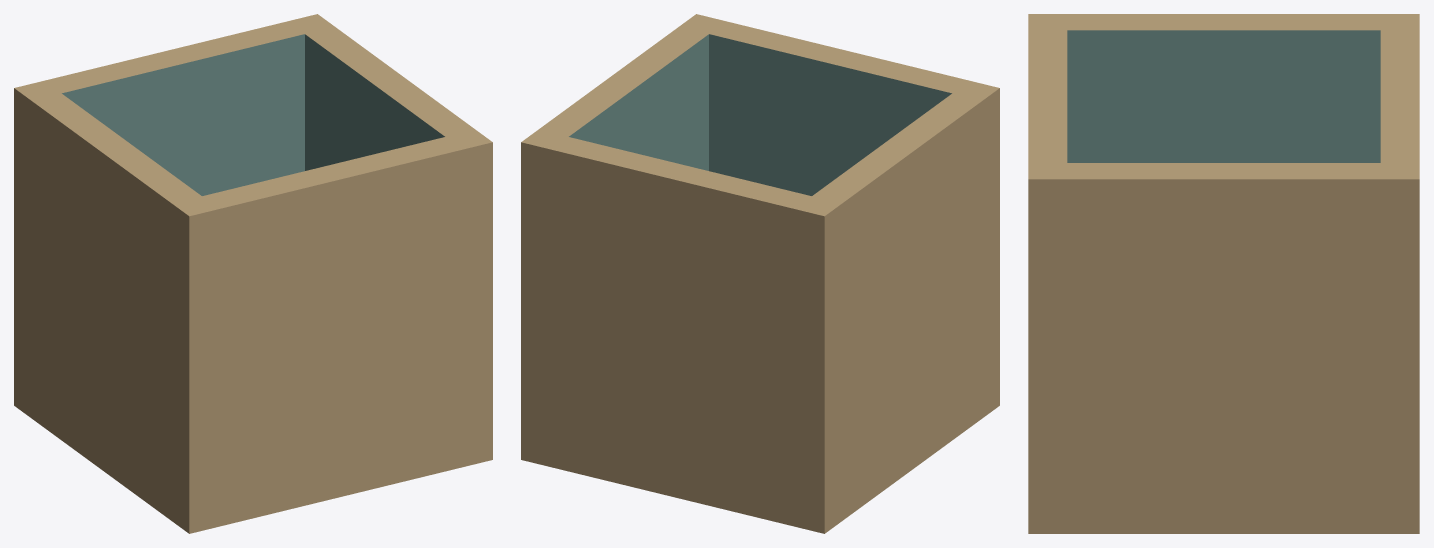
The model's file is BalconSimple.fbx.
The picture shows the model from 3 angles, left to right: view 1: azimuth 30°, elevation 25°; view 2: azimuth 150°, elevation 25°; view 3: azimuth 270°, elevation 25°; orthographic projection. The views are drawn at different scales.
Visible parts, largest first — view 1: Cube.014; view 2: Cube.014; view 3: Cube.014.
Boxes of the visible parts, x1,y1,x2,y2 form: Cube.014: (14, 14, 492, 533); Cube.014: (521, 14, 999, 533); Cube.014: (1028, 14, 1419, 533).
Bounding box in the file's own units: 40 × 40 × 40.
